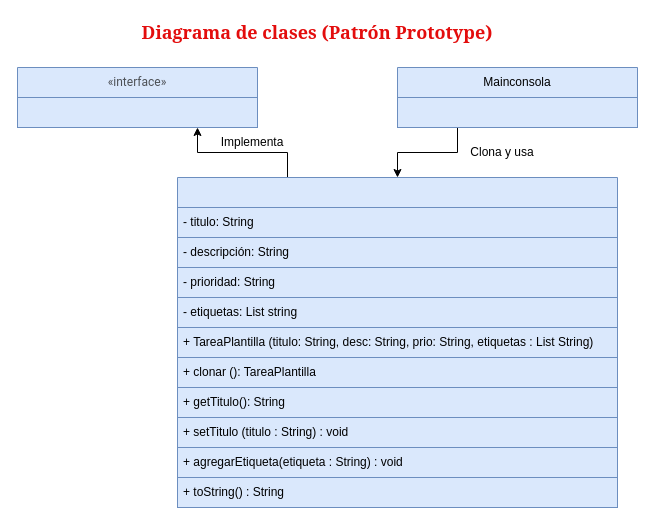
Image size: 655x525. Some labels were removed from this diagram. The box of each missing label's shape, as (x1, y1, x2, y2) in pixels:
+ clonar() : PrototipoTarea: (16, 96, 258, 128)
+ main(args : String) : void: (396, 96, 638, 128)
TareaPlantilla: (176, 176, 618, 298)
